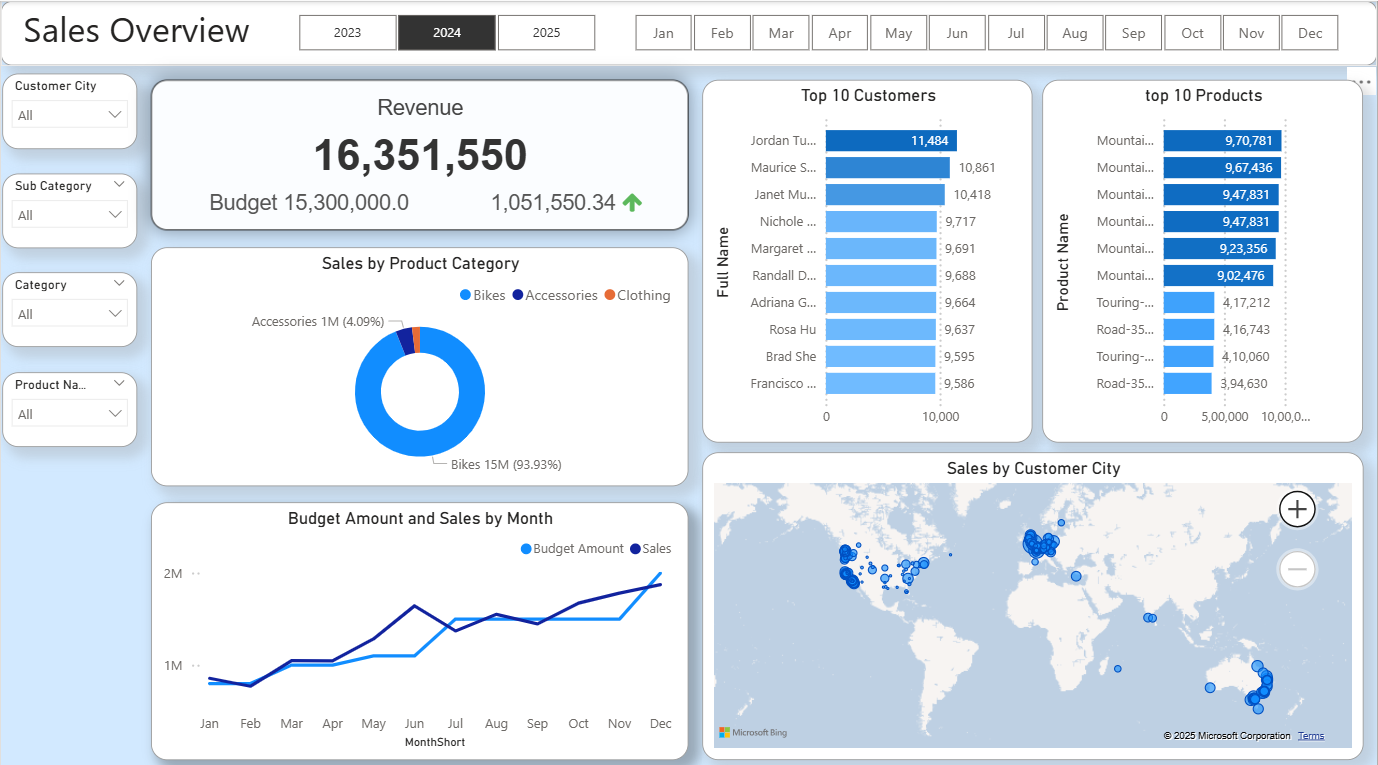

The page's visual inventory and layout, read from the dashboard file:
{"tool":"powerbi","page":{"name":"Sales OverView","canvas":[1280,720],"ordinal":0},"visuals":[{"type":"textbox","box":[0,0,1280.3,60.4],"z":0},{"type":"slicer","fields":{"Values":["Dim_Customer.Customer City"]},"box":[1.4,67.5,125.3,70],"z":1000},{"type":"slicer","fields":{"Values":["Dim_Product.Sub Category"]},"box":[1.4,160.6,125.6,69.8],"z":2000},{"type":"slicer","fields":{"Values":["Dim_Product.Product Category"]},"box":[1.4,252.5,125.6,69.8],"z":3000},{"type":"slicer","fields":{"Values":["Dim_Product.Product Name"]},"box":[1.4,345.5,125.6,69.8],"z":4000},{"type":"slicer","fields":{"Values":["Dim_Calendar csv.Year"]},"box":[251.4,5.7,325.7,47.1],"z":5000},{"type":"slicer","fields":{"Values":["Dim_Calendar csv.MonthShort"]},"box":[564.3,5.7,704.3,47.1],"z":6000},{"type":"BBED0A4D4D8D44CE93CF2DAFADEE466C","fields":{"actual":["FACT_InternetSales.Sales"],"target1":["FACT_Budget.Budget Amount"],"target2":["Key Measures.Sales - Budget"]},"box":[140,73.8,500,140],"z":7000},{"type":"donutChart","fields":{"Category":["Dim_Product.Product Category"],"Y":["Key Measures.Sales"]},"box":[140,228.8,500,222.5],"z":8000},{"type":"lineChart","title":"Budget Amount and Sales by Month","fields":{"Category":["Dim_Calendar csv.MonthShort"],"Y2":["Key Measures.Budget Amount","Key Measures.Sales"]},"box":[140,466.2,500,240],"z":9000},{"type":"barChart","title":"Top 10 Customers","fields":{"Y":["Key Measures.Sales"],"Category":["Dim_Customer.Full Name"]},"box":[652.5,73.8,307.5,337.5],"z":10000},{"type":"barChart","title":"top 10 Products","fields":{"Y":["Key Measures.Sales"],"Category":["Dim_Product.Product Name"]},"box":[968.8,73.8,298.8,337.5],"z":11000},{"type":"map","fields":{"Category":["Dim_Customer.Customer City"],"Size":["Key Measures.Sales"]},"box":[652.5,420,615,286.2],"z":12000}]}

Visuals, with their boxes in screenshot pixels (x1, y1, x2, y2), scaled from the page's 1280x720 canvas onto the 1378x765 screenshot:
textbox: (x1=0, y1=0, x2=1377, y2=64)
slicer - Dim_Customer.Customer City: (x1=2, y1=72, x2=136, y2=146)
slicer - Dim_Product.Sub Category: (x1=2, y1=171, x2=137, y2=245)
slicer - Dim_Product.Product Category: (x1=2, y1=268, x2=137, y2=342)
slicer - Dim_Product.Product Name: (x1=2, y1=367, x2=137, y2=441)
slicer - Dim_Calendar csv.Year: (x1=271, y1=6, x2=621, y2=56)
slicer - Dim_Calendar csv.MonthShort: (x1=608, y1=6, x2=1366, y2=56)
BBED0A4D4D8D44CE93CF2DAFADEE466C - FACT_InternetSales.Sales x FACT_Budget.Budget Amount: (x1=151, y1=78, x2=689, y2=227)
donutChart - Dim_Product.Product Category x Key Measures.Sales: (x1=151, y1=243, x2=689, y2=480)
"Budget Amount and Sales by Month" lineChart: (x1=151, y1=495, x2=689, y2=750)
"Top 10 Customers" barChart: (x1=702, y1=78, x2=1034, y2=437)
"top 10 Products" barChart: (x1=1043, y1=78, x2=1365, y2=437)
map - Dim_Customer.Customer City x Key Measures.Sales: (x1=702, y1=446, x2=1365, y2=750)
